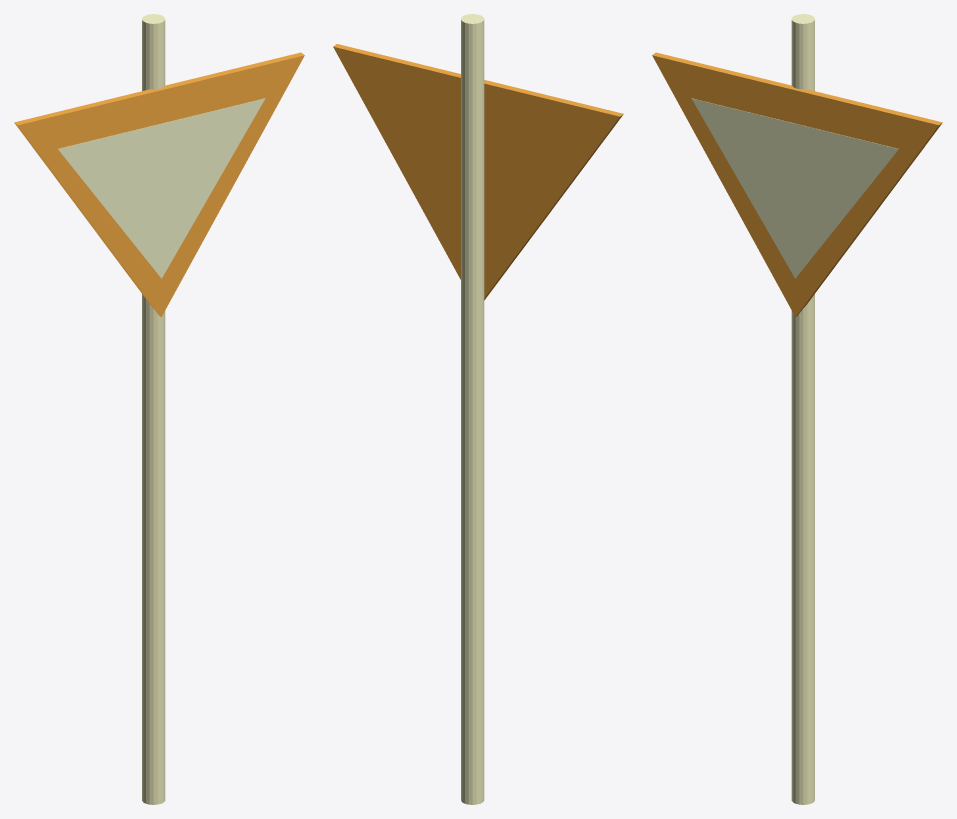
File: sign_yield.glb
The picture shows the model from 3 angles, left to right: view 1: azimuth 30°, elevation 25°; view 2: azimuth 150°, elevation 25°; view 3: azimuth 330°, elevation 25°; orthographic projection.
Visible parts, largest first — view 1: plate_base_00, layer_1_00, pole; view 2: plate_base_00, pole; view 3: plate_base_00, layer_1_00, pole.
Boxes of the visible parts, left/top/right/bottom form: plate_base_00: left=14, top=52, right=304, bottom=317; layer_1_00: left=58, top=98, right=265, bottom=278; pole: left=142, top=14, right=165, bottom=804; plate_base_00: left=333, top=44, right=623, bottom=300; pole: left=461, top=14, right=484, bottom=804; plate_base_00: left=652, top=52, right=942, bottom=317; layer_1_00: left=691, top=98, right=898, bottom=278; pole: left=791, top=14, right=814, bottom=804.
Size of the model in its own units: 0.846 by 2.2 by 0.071.
